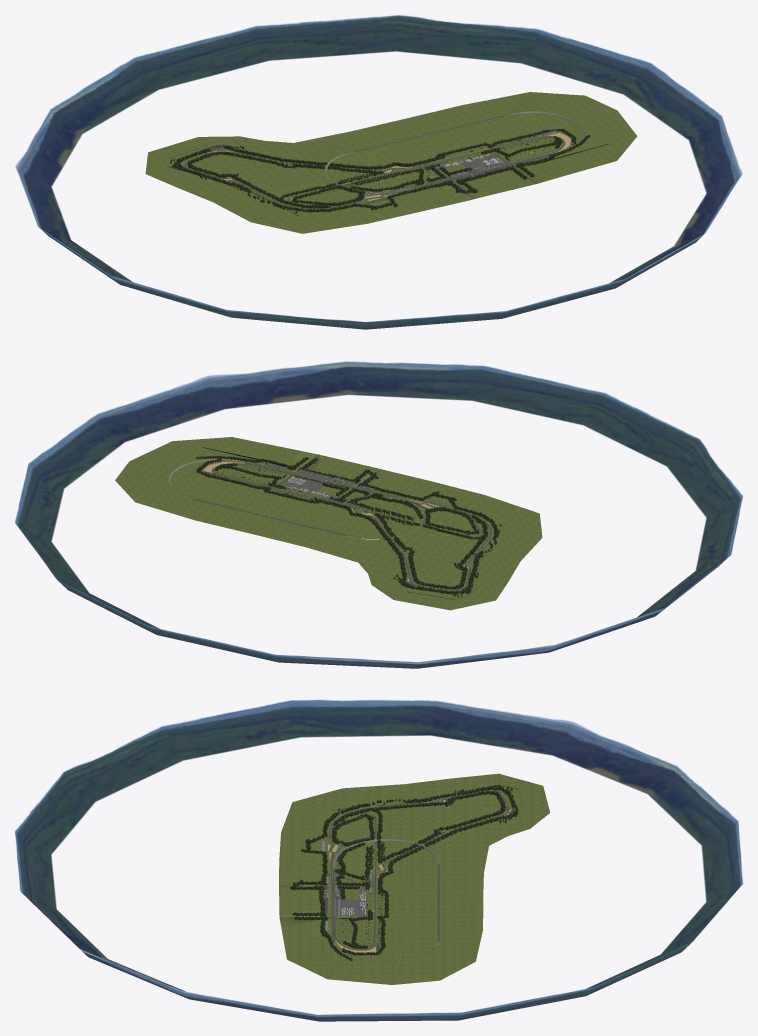
File: pista.glb
The picture shows the model from 3 angles, top to bottom: view 1: azimuth 30°, elevation 25°; view 2: azimuth 150°, elevation 25°; view 3: azimuth 270°, elevation 25°; orthographic projection. The views are drawn at different scales.
Parts seen in each view (by area): view 1: Object_4, Object_99, Object_98, Object_18, Object_33, Object_30, Object_29, Object_109, Object_31, Object_92; view 2: Object_4, Object_99, Object_98, Object_18, Object_33, Object_30, Object_29, Object_109, Object_31, Object_92; view 3: Object_4, Object_98, Object_99, Object_18, Object_33, Object_30, Object_29, Object_109, Object_31, Object_92.
Part boxes in pixels (left/top/right/bottom): Object_4: left=145, top=92, right=637, bottom=233; Object_99: left=15, top=15, right=741, bottom=329; Object_98: left=15, top=15, right=742, bottom=329; Object_18: left=173, top=128, right=590, bottom=211; Object_33: left=170, top=129, right=589, bottom=213; Object_30: left=175, top=128, right=588, bottom=211; Object_29: left=173, top=130, right=588, bottom=212; Object_109: left=184, top=115, right=564, bottom=209; Object_31: left=176, top=129, right=588, bottom=212; Object_92: left=338, top=153, right=551, bottom=207; Object_4: left=115, top=437, right=542, bottom=610; Object_99: left=57, top=361, right=698, bottom=668; Object_98: left=15, top=376, right=742, bottom=652; Object_18: left=196, top=456, right=498, bottom=594; Object_33: left=196, top=456, right=501, bottom=597; Object_30: left=199, top=456, right=497, bottom=593; Object_29: left=197, top=456, right=500, bottom=594; Object_109: left=194, top=454, right=491, bottom=591; Object_31: left=199, top=456, right=497, bottom=594; Object_92: left=250, top=464, right=355, bottom=507; Object_4: left=279, top=773, right=550, bottom=984; Object_98: left=64, top=699, right=691, bottom=1021; Object_99: left=14, top=721, right=743, bottom=998; Object_18: left=290, top=785, right=517, bottom=960; Object_33: left=291, top=785, right=518, bottom=960; Object_30: left=293, top=785, right=517, bottom=959; Object_29: left=293, top=785, right=517, bottom=958; Object_109: left=279, top=793, right=508, bottom=950; Object_31: left=295, top=786, right=517, bottom=959; Object_92: left=333, top=875, right=374, bottom=938.
Size of what is drawn, in the model's own units: 4644 by 151 by 4534.
99 materials, 99 textured.
